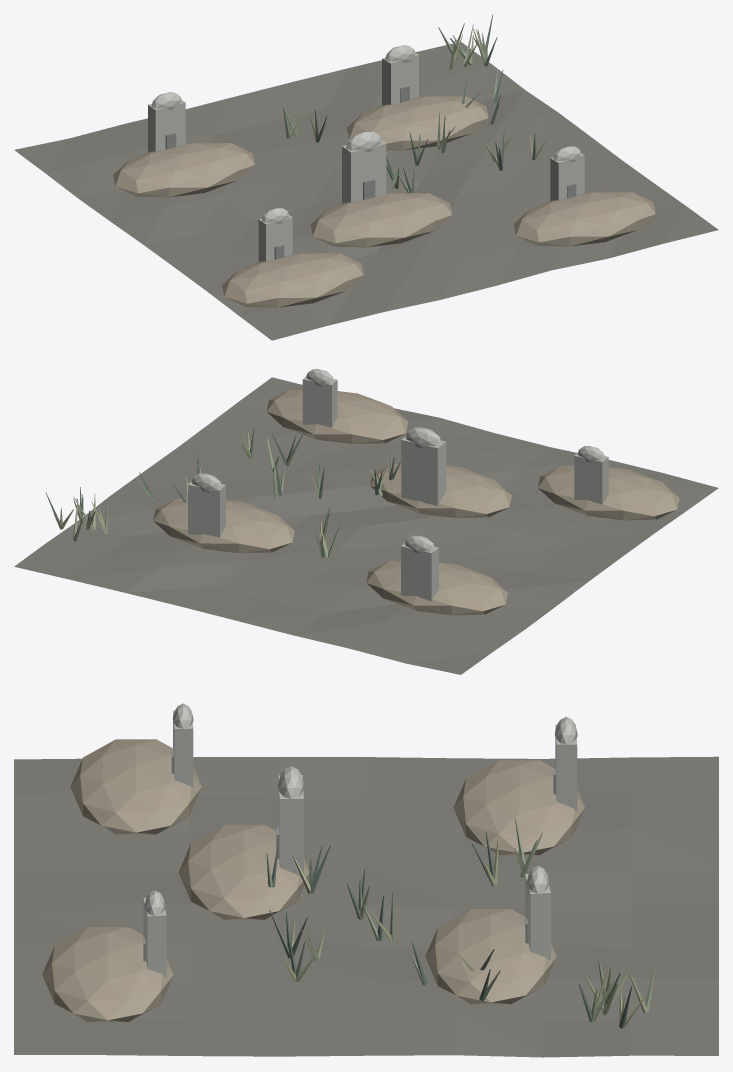
The model's file is forgotten_graves.glb.
The picture shows the model from 3 angles, top to bottom: view 1: azimuth 30°, elevation 25°; view 2: azimuth 150°, elevation 25°; view 3: azimuth 270°, elevation 25°; orthographic projection. The views are drawn at different scales.
Parts seen in each view (by area): view 1: material_00, material_03, material_01, material_04, material_06, material_05, material_02; view 2: material_00, material_03, material_01, material_04, material_05, material_06; view 3: material_00, material_03, material_01, material_06, material_05, material_04.
Part boxes in pixels (x1=…): material_00: x1=14, y1=42, x2=718, y2=340; material_03: x1=113, y1=95, x2=655, y2=307; material_01: x1=148, y1=45, x2=584, y2=261; material_04: x1=282, y1=24, x2=538, y2=193; material_06: x1=315, y1=14, x2=535, y2=192; material_05: x1=289, y1=23, x2=545, y2=188; material_02: x1=165, y1=85, x2=576, y2=259; material_00: x1=14, y1=377, x2=718, y2=674; material_03: x1=153, y1=389, x2=679, y2=615; material_01: x1=188, y1=369, x2=608, y2=601; material_04: x1=73, y1=426, x2=400, y2=559; material_05: x1=54, y1=432, x2=388, y2=558; material_06: x1=46, y1=428, x2=394, y2=538; material_00: x1=14, y1=756, x2=718, y2=1057; material_03: x1=42, y1=739, x2=584, y2=1022; material_01: x1=143, y1=703, x2=577, y2=976; material_06: x1=269, y1=832, x2=631, y2=1028; material_05: x1=282, y1=839, x2=648, y2=1028; material_04: x1=266, y1=818, x2=655, y2=1021.
Bounding box in the file's own units: 3.02 × 0.5822 × 3.
